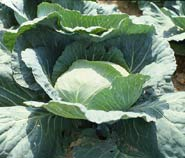cabbage: (0, 1, 184, 157)
